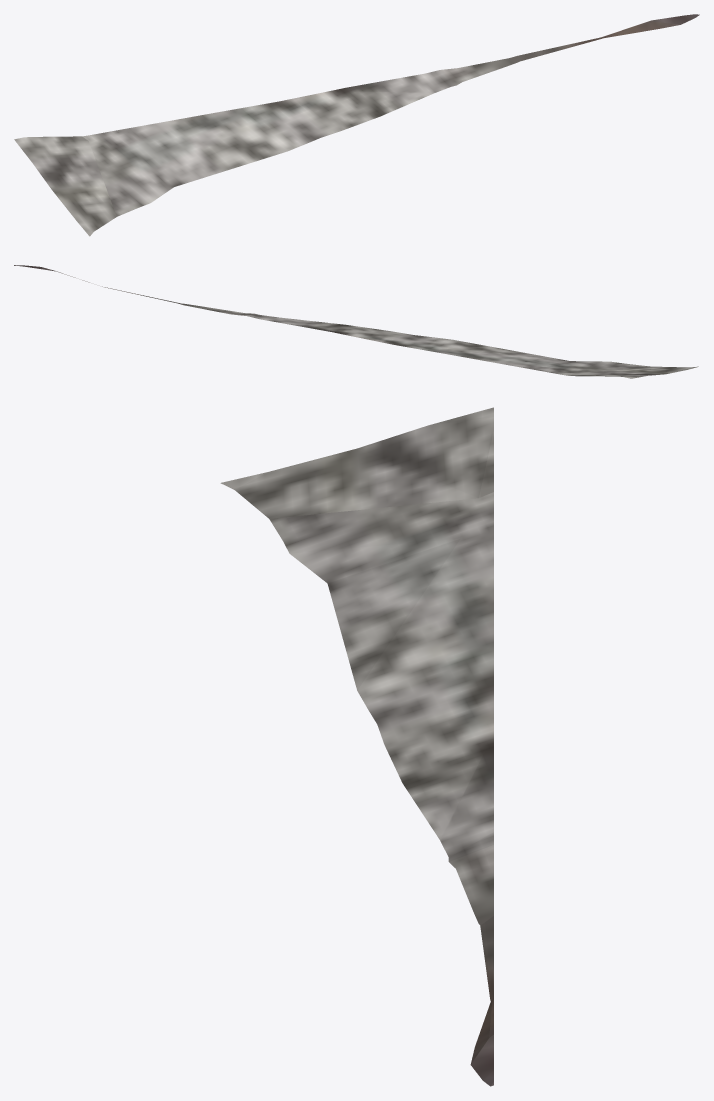
The picture shows the model from 3 angles, top to bottom: view 1: azimuth 30°, elevation 25°; view 2: azimuth 150°, elevation 25°; view 3: azimuth 270°, elevation 25°; orthographic projection. The views are drawn at different scales.
Bounding box in the file's own units: 0.5224 × 0.0305 × 0.1001.
Materials: 1 (1 with a texture image).
